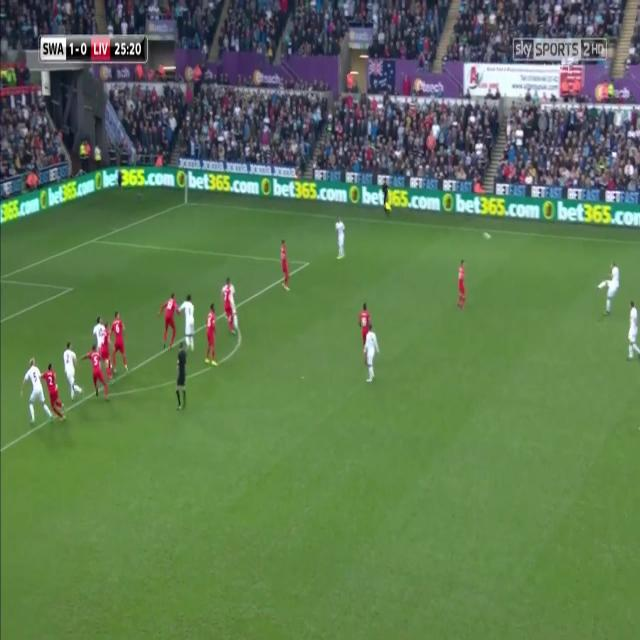Ball: (479, 229, 496, 245)
Player: (18, 356, 53, 425), (80, 338, 111, 406), (43, 357, 68, 425), (596, 258, 621, 318), (158, 292, 180, 356), (110, 311, 132, 375), (62, 336, 84, 400), (623, 292, 640, 368), (364, 324, 382, 392), (180, 290, 198, 357), (204, 302, 220, 372), (454, 256, 470, 314), (278, 234, 293, 292), (223, 276, 236, 336), (358, 301, 372, 349), (334, 217, 346, 265), (93, 314, 107, 351)
Referee: (172, 336, 190, 420), (380, 176, 393, 217)
